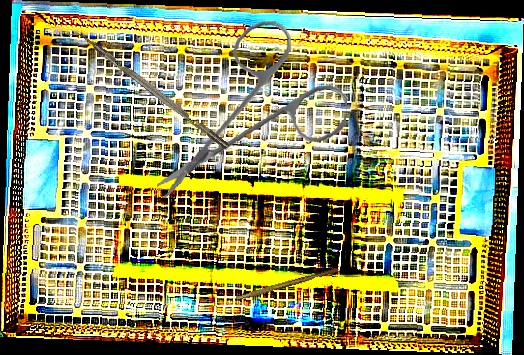Chopper: (66, 24, 230, 158)
Iris Scissors: (156, 11, 354, 215)
Scalpel Handle: (235, 265, 339, 304)
